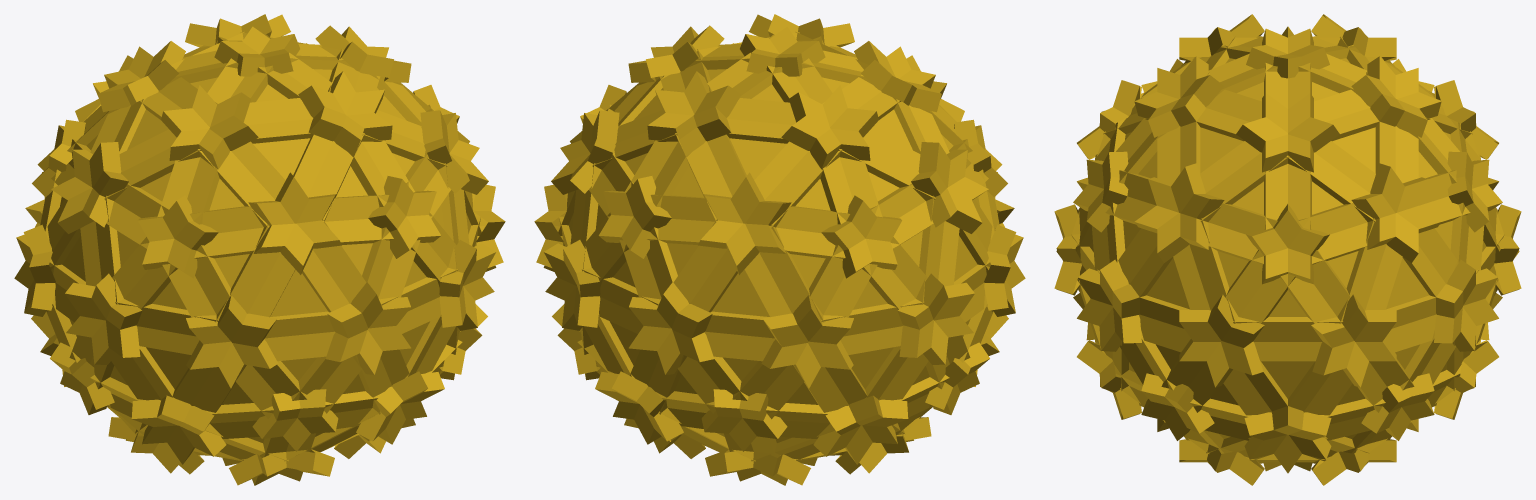
Rendered from Round.obj.
3 views of the same model, side by side, from view 1: azimuth 30°, elevation 25°; view 2: azimuth 150°, elevation 25°; view 3: azimuth 270°, elevation 25° (orthographic).
Visible parts, largest first — view 1: Icosphere; view 2: Icosphere; view 3: Icosphere.
Boxes of the visible parts, left/top/right/bottom form: Icosphere: left=14, top=14, right=505, bottom=485; Icosphere: left=534, top=14, right=1025, bottom=485; Icosphere: left=1054, top=14, right=1521, bottom=485.
Size of the model in its own units: 6.3 by 5.87 by 5.98.
